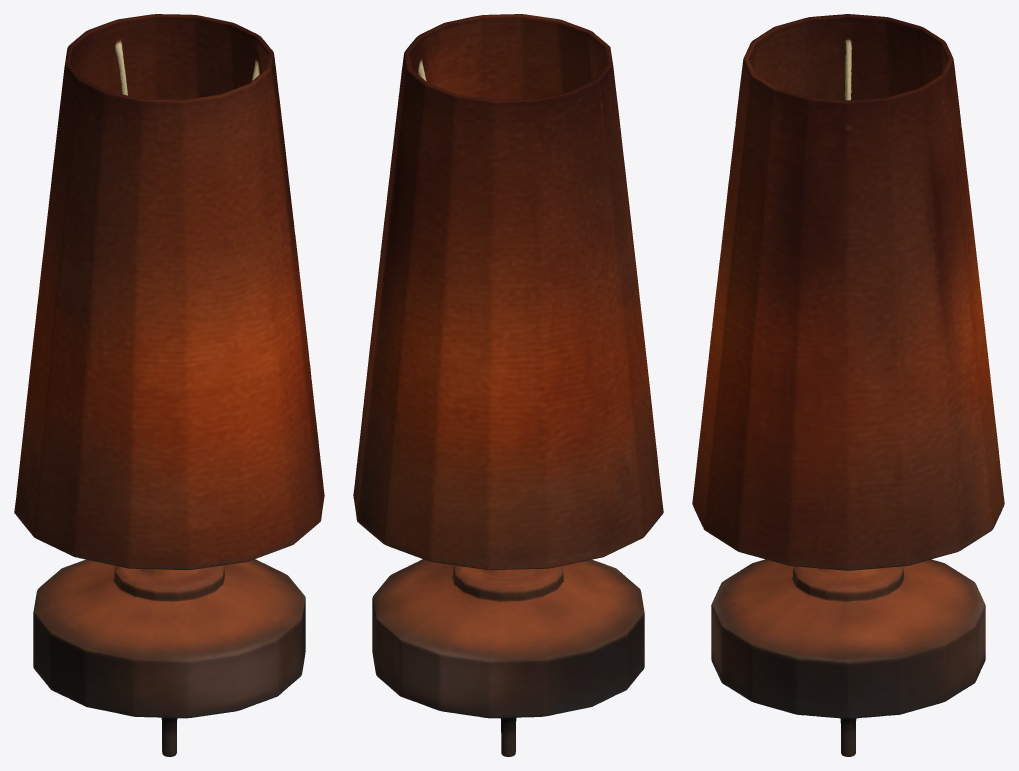
The model's file is Lamp [Nn8GPM].glb.
3 views of the same model, side by side, from view 1: azimuth 30°, elevation 25°; view 2: azimuth 150°, elevation 25°; view 3: azimuth 270°, elevation 25° (orthographic).
Parts seen in each view (by area): view 1: world; view 2: world; view 3: world.
Boxes of the visible parts, x1=… form: world: x1=14, y1=14, x2=324, y2=756; world: x1=353, y1=14, x2=663, y2=756; world: x1=692, y1=14, x2=1004, y2=756.
Bounding box in the file's own units: 0.4081 × 1 × 0.4078.
Materials: 1 (1 with a texture image).
